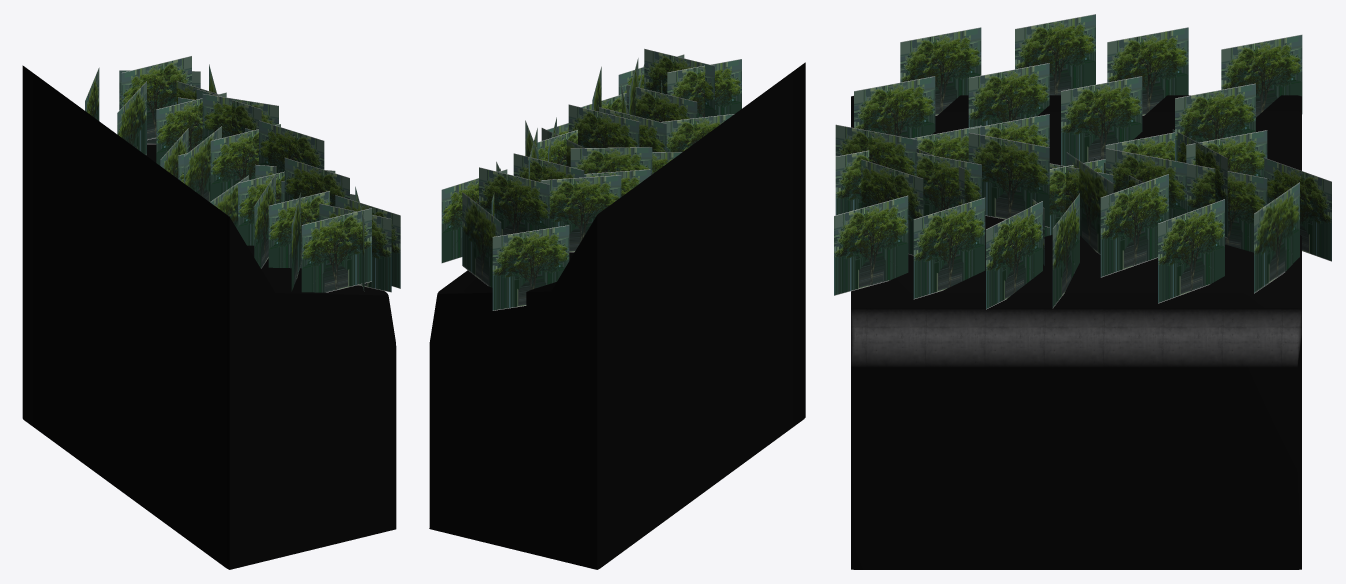
Rendered from AMB_DOTE_TREE_R.glb.
3 renders of one model, left to right at view 1: azimuth 30°, elevation 25°; view 2: azimuth 150°, elevation 25°; view 3: azimuth 270°, elevation 25°, orthographic. The views are drawn at different scales.
Parts seen in each view (by area): view 1: Mesh1; view 2: Mesh1; view 3: Mesh1.
Part boxes in pixels (x1,y1,x2,y2): Mesh1: (22, 56, 400, 569); Mesh1: (429, 48, 805, 569); Mesh1: (834, 14, 1331, 569).
Size of the model in its own units: 54.03 by 114 by 113.
2 materials, 2 textured.
